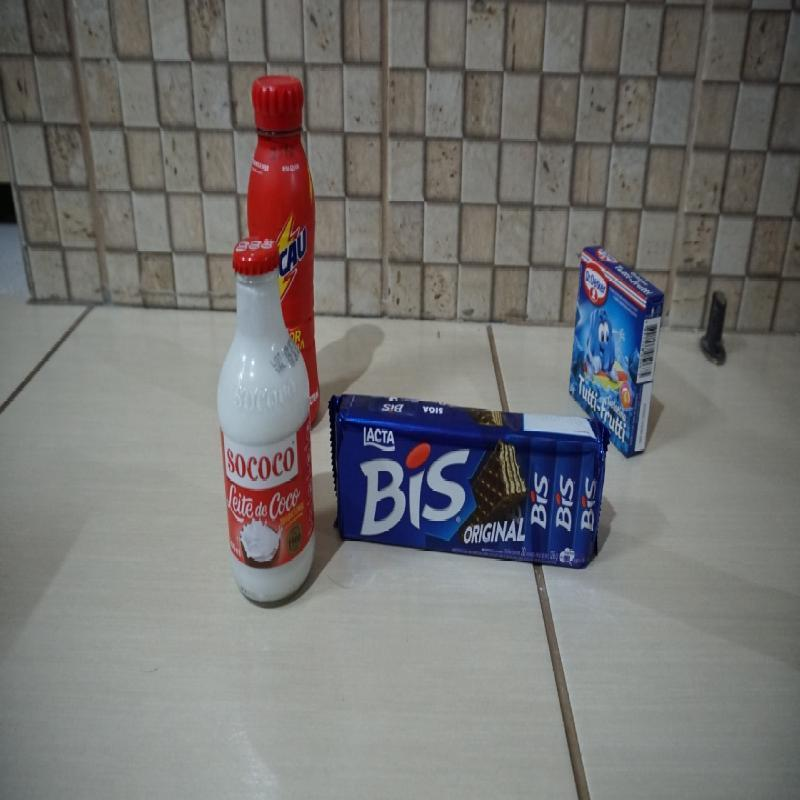Chocolate Milk: (245, 72, 320, 228)
Coconut Milk: (219, 232, 314, 601)
Gelatine: (570, 246, 666, 422)
